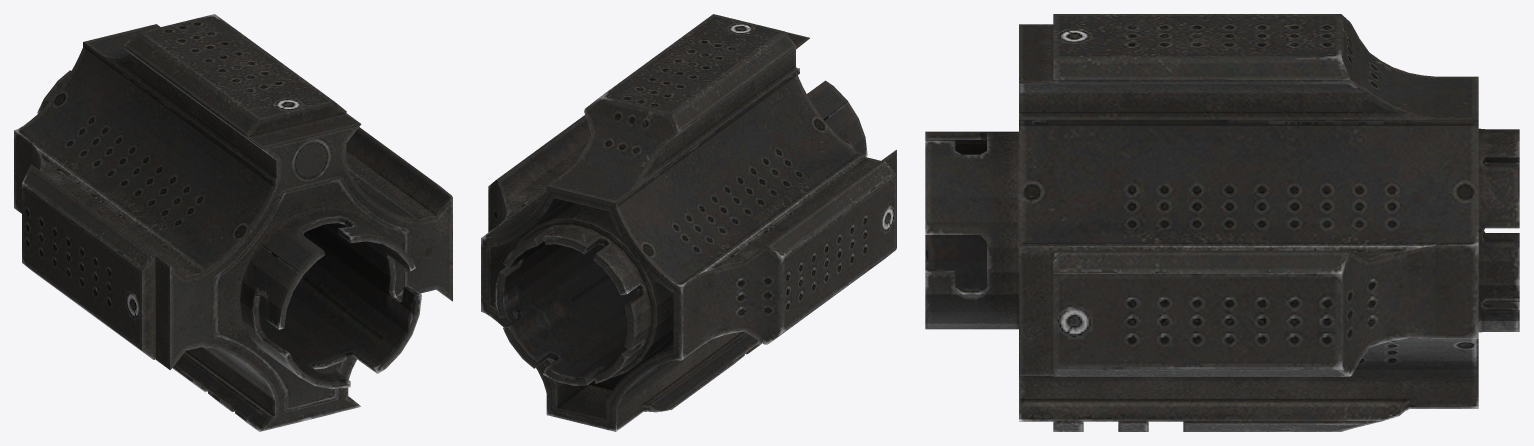
3 renders of one model, left to right at view 1: azimuth 30°, elevation 25°; view 2: azimuth 150°, elevation 25°; view 3: azimuth 270°, elevation 25°, orthographic. The views are drawn at different scales.
Parts seen in each view (by area): view 1: TW_5c78f2882e22165df16b832e_PZ_Import; view 2: TW_5c78f2882e22165df16b832e_PZ_Import; view 3: TW_5c78f2882e22165df16b832e_PZ_Import.
Boxes of the visible parts, <box> form: TW_5c78f2882e22165df16b832e_PZ_Import: <box>14,14,452,431</box>; TW_5c78f2882e22165df16b832e_PZ_Import: <box>481,14,896,431</box>; TW_5c78f2882e22165df16b832e_PZ_Import: <box>925,14,1519,431</box>.
Bounding box in the file's own units: 0.0382 × 0.0529 × 0.0367.
1 material, 1 textured.
